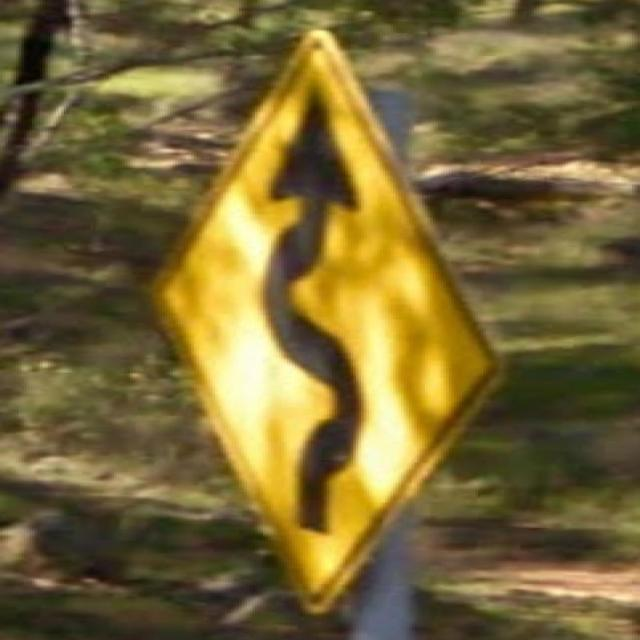Banyak Tikungan Pertama Kanan: (130, 19, 531, 624)
